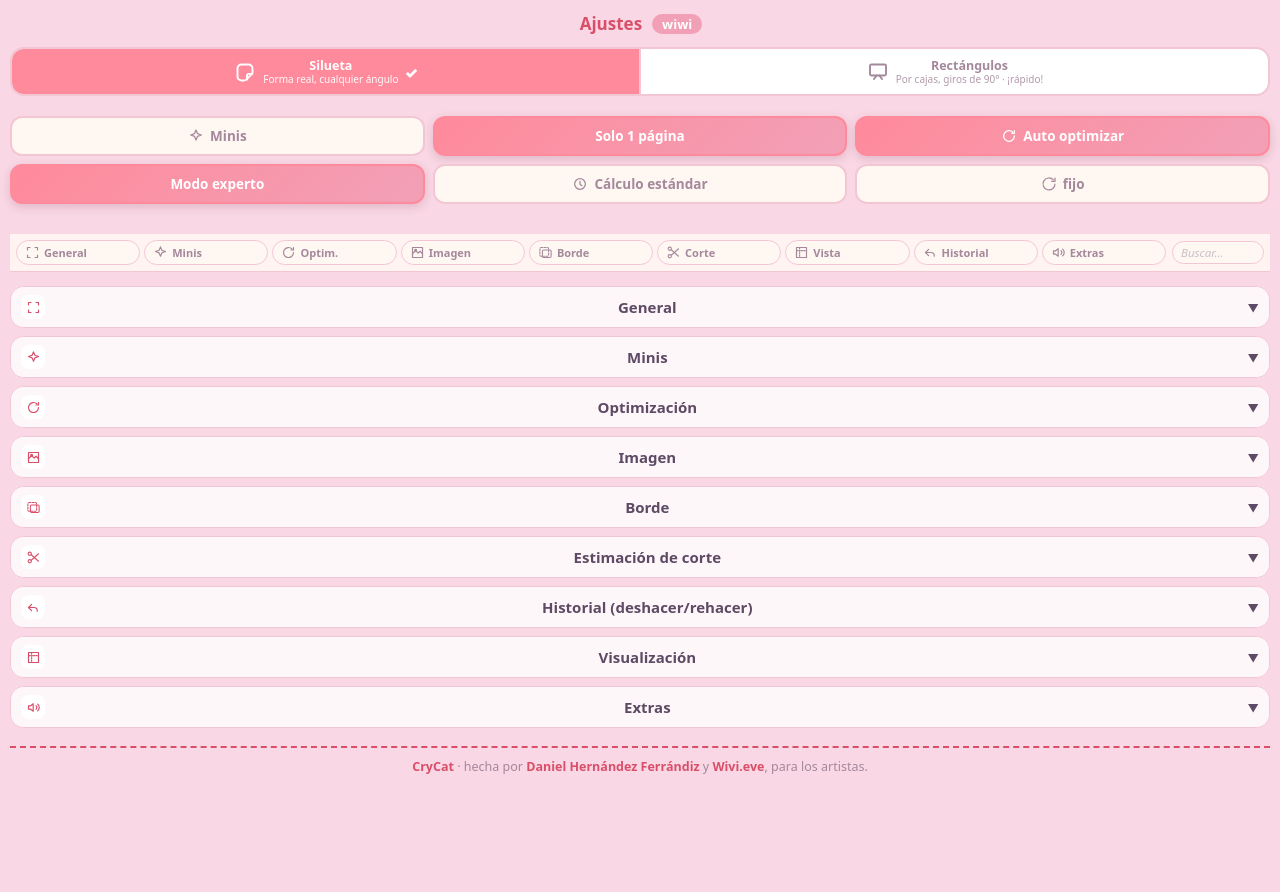
Test: Panel de ajustes › la sección imagen incluye la detección de líneas anómalas
This screenshot has width=1280, height=892.
Click the element with class "sect-head" showing "Imagen ▼" at {"x": 640, "y": 457}, box [11, 437, 1269, 477]
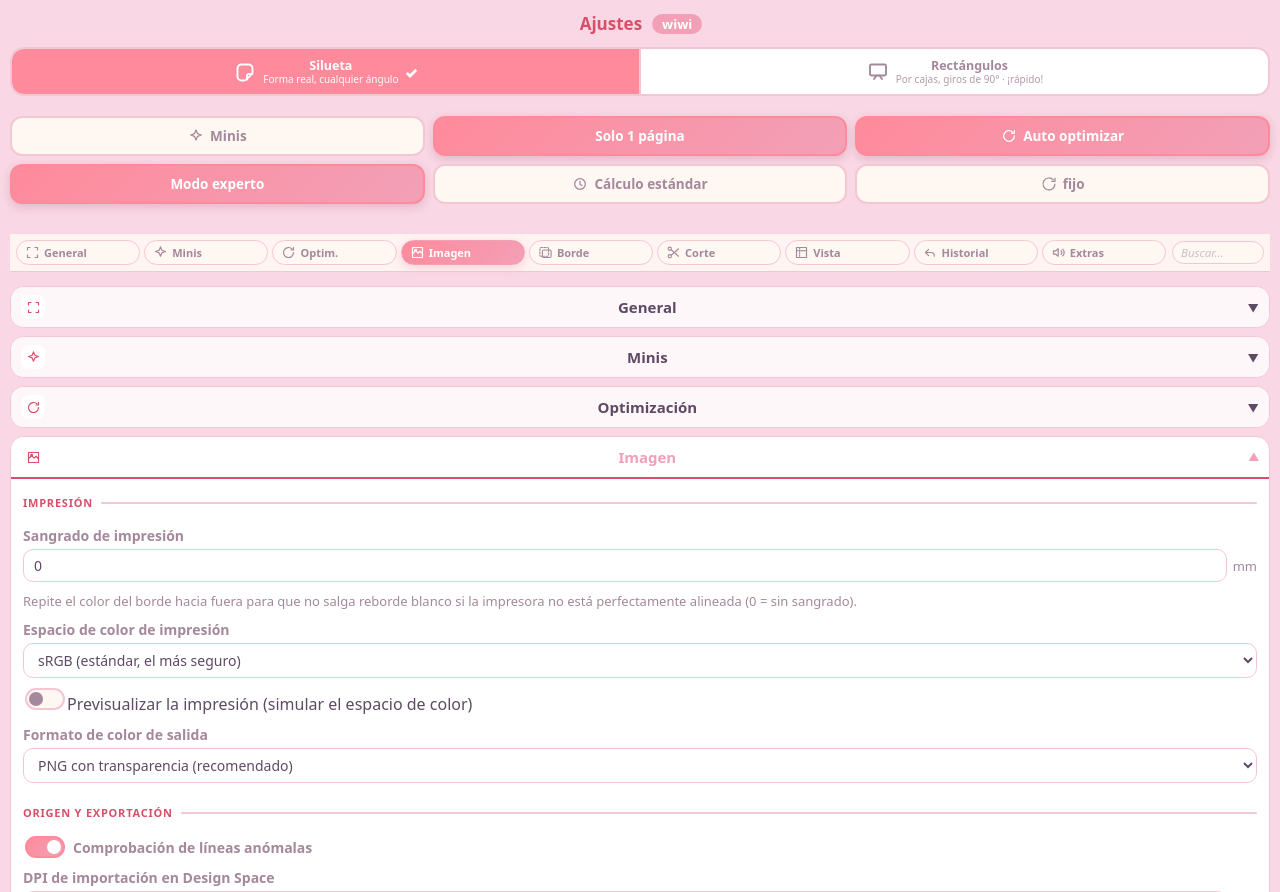
Result: the checkbox with test id "set-chequear-lineas" is checked at [25, 836, 65, 858]
